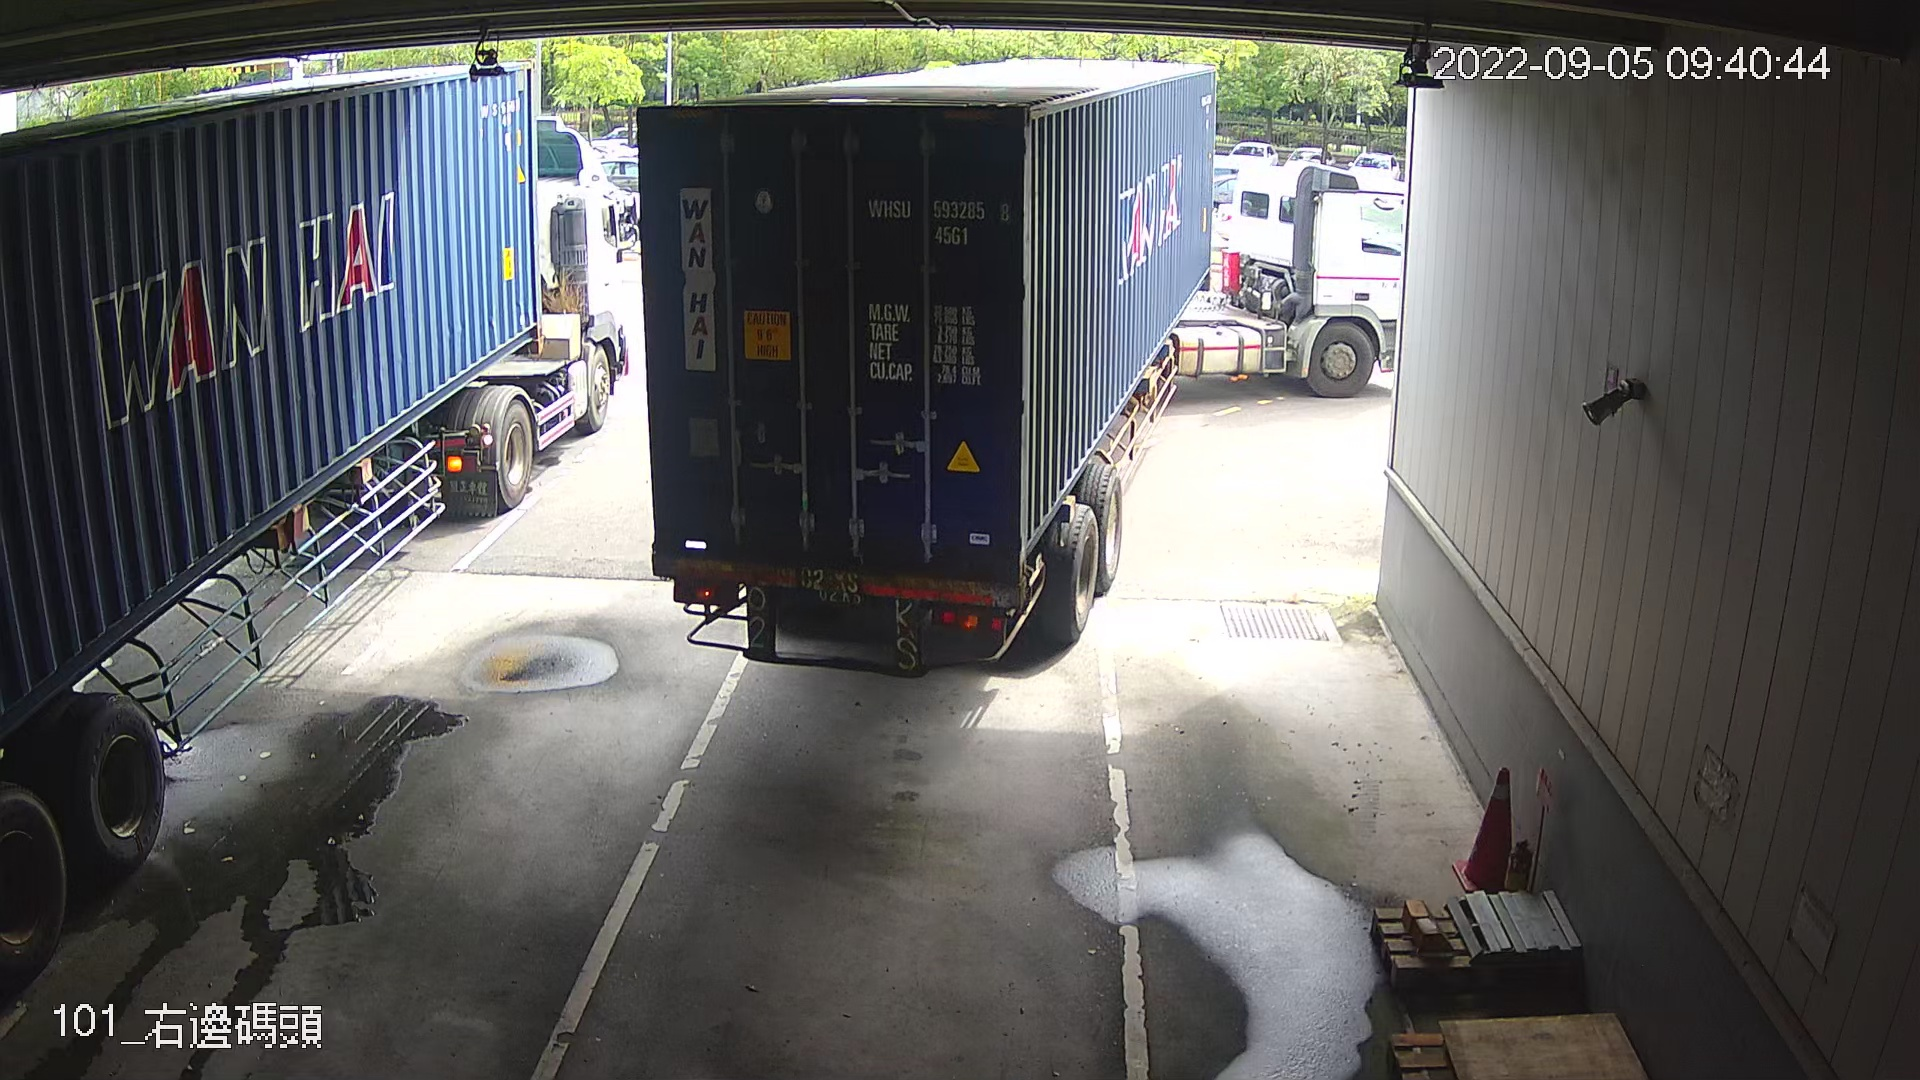container: (857, 183, 1017, 255)
